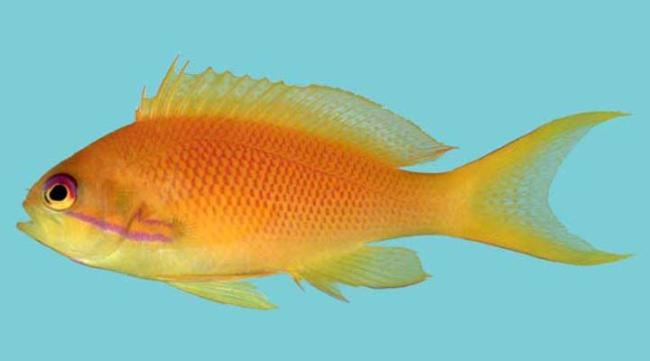fish: (16, 52, 634, 311)
